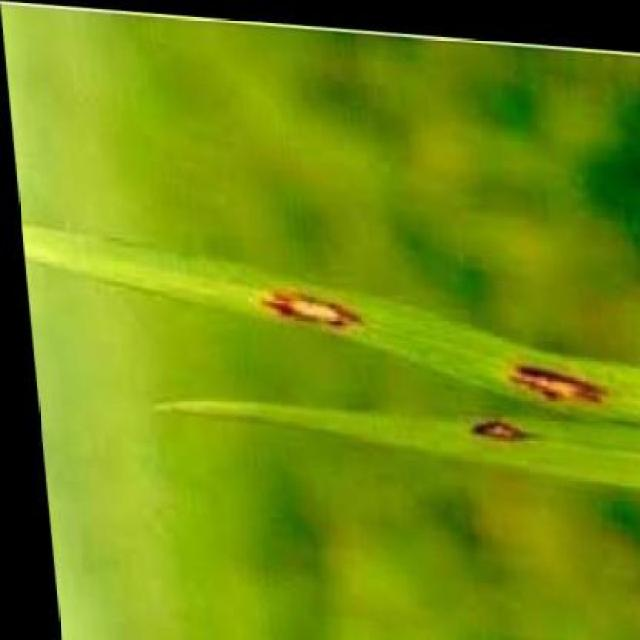Bacterial_Leaf_Blight: (479, 323, 586, 417), (237, 291, 348, 335), (436, 398, 519, 448)
